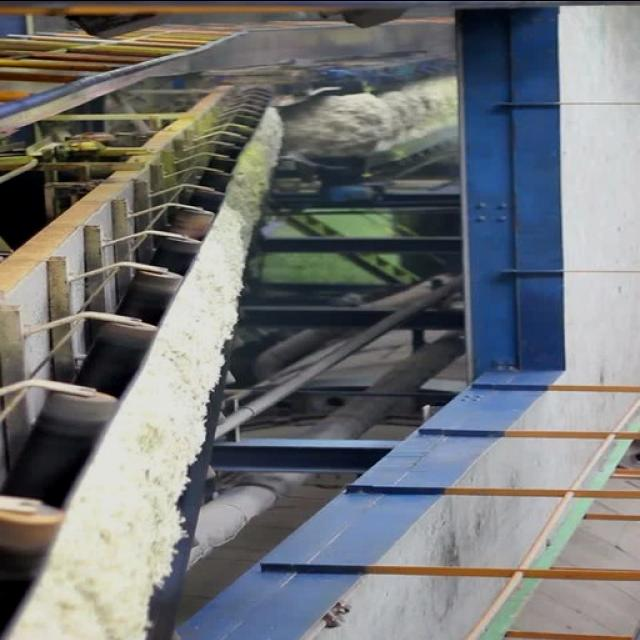conveyor: (8, 98, 290, 640)
